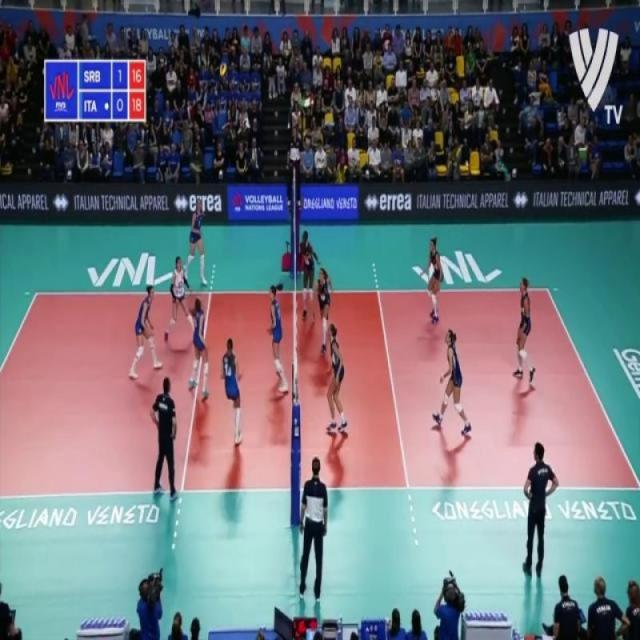volleyball: (220, 61, 228, 78)
